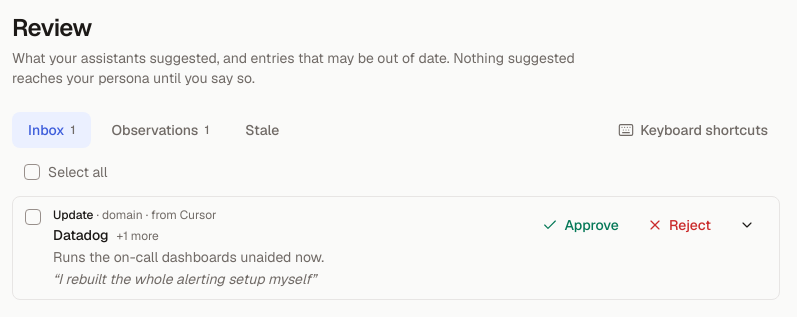
Test: ProposalsPanel › offers promote and delete on observations, never approve
Click the tab "Observations 1" at (160, 130), box [95, 112, 225, 148]
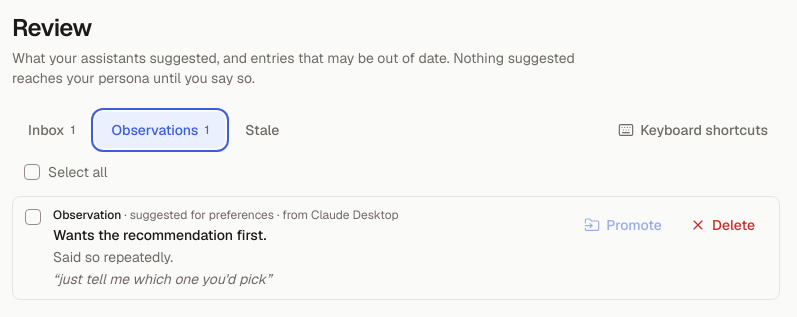
Now the button with aria-label "Promote Wants the recommendation first." is shown, box [572, 207, 674, 243]
Now the button with aria-label "Delete Wants the recommendation first." is shown, box [678, 207, 767, 243]
Now the text "Observation" reads "Observation · suggested for preferences · from Claude Desktop", box [53, 207, 399, 223]
